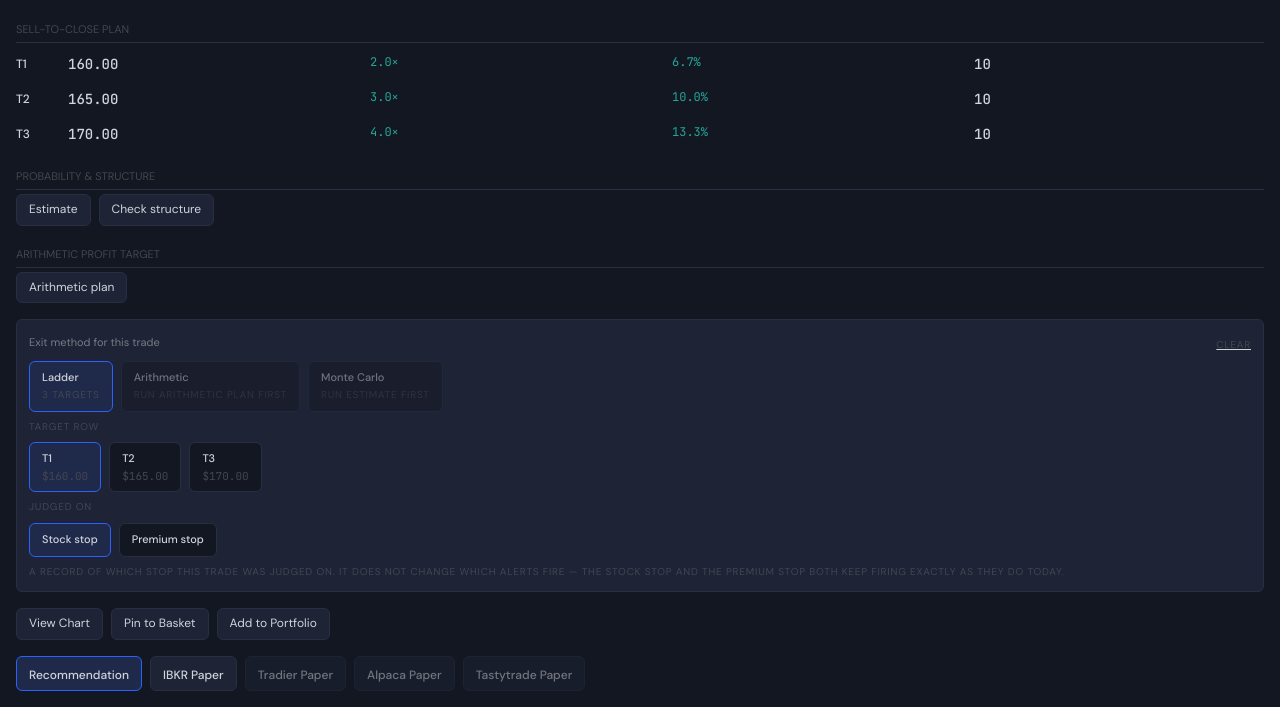
Scenario: StockPositionCard — broker order submit() › a refused save sends NO order and shows the reason
This screenshot has width=1280, height=707.
(page scrolled)
What coordinates should you click on to do the following:
click the button "IBKR Paper"
I would click on:
 (193, 673)
Its box is [150,656,237,691].
(page scrolled)
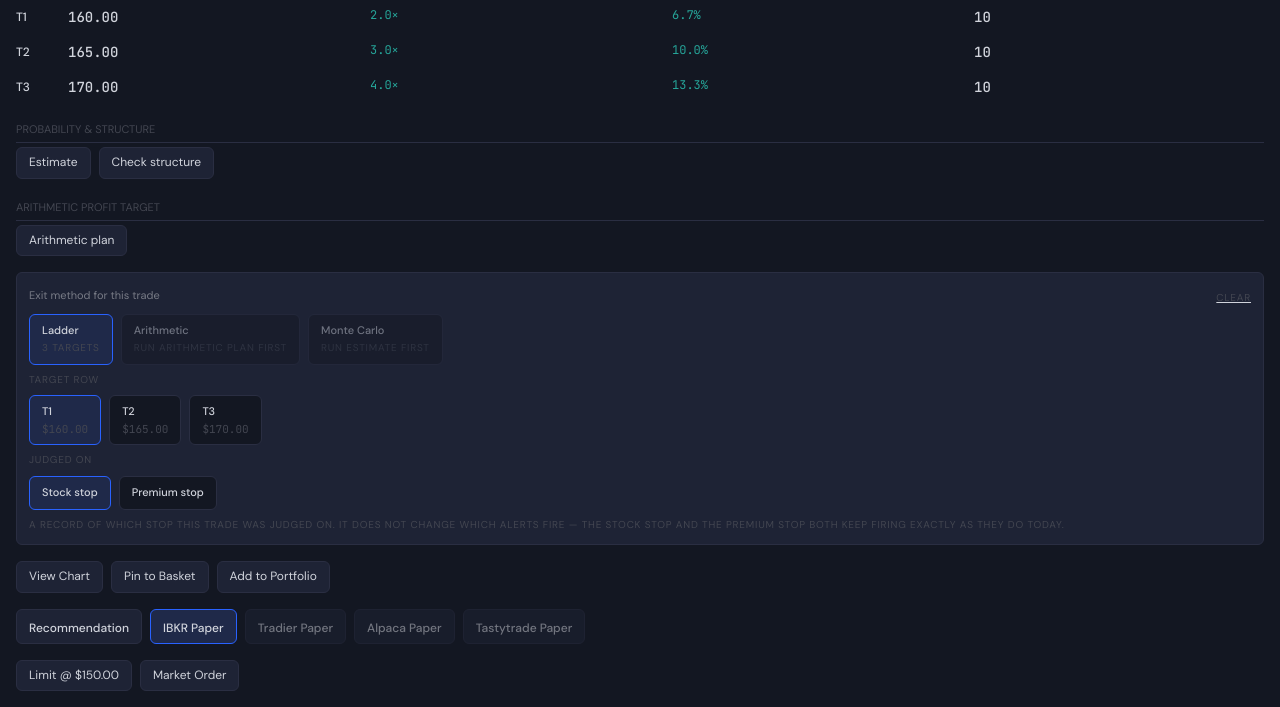
What coordinates should you click on to do the following:
click the button "Limit @ $150.00"
I would click on:
 (74, 676)
Its box is [16,660,132,692].
(page scrolled)
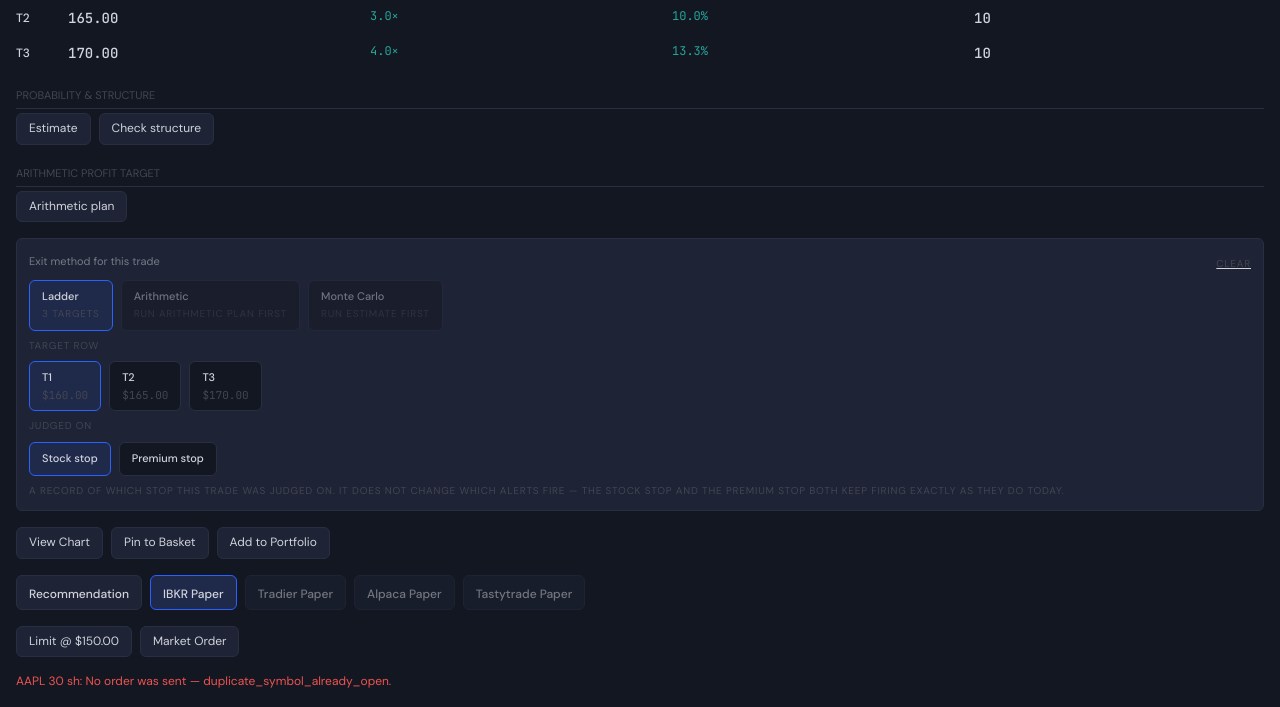
Check: the text "AAPL 30 sh: No order was sent — duplicate_symbol_already_open" is shown, box [16,674,391,690]
